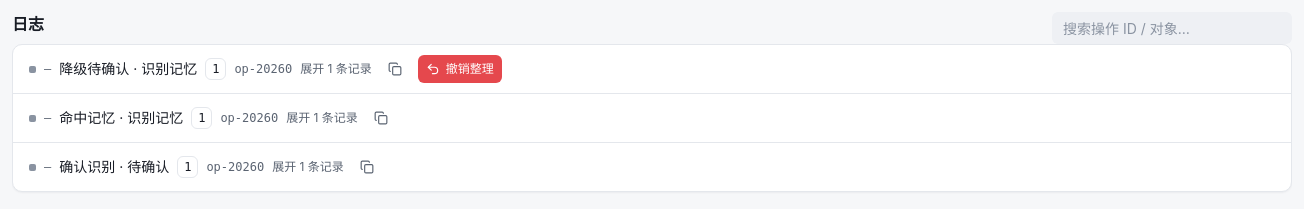
Test: LogsPage(分组契约冒烟,mock fixtures 无时间字段) › 撤销整理:首次点击仅出现确认,取消后不执行
This screenshot has width=1304, height=209.
Click the button "撤销整理" at (460, 69), box [418,55,502,83]
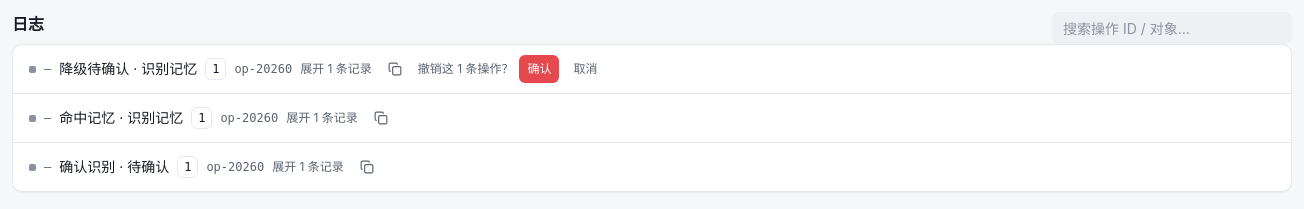
Result: the text "撤销这 1 条操作？" is shown at [418,61,513,77]
取消回到初始按钮态
Click the button "取消" at (586, 69), box [566,55,606,83]
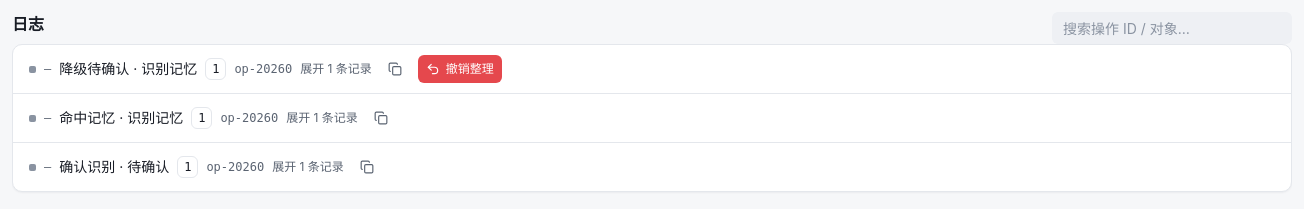
Result: the button "撤销整理" is shown at [418,55,502,83]
